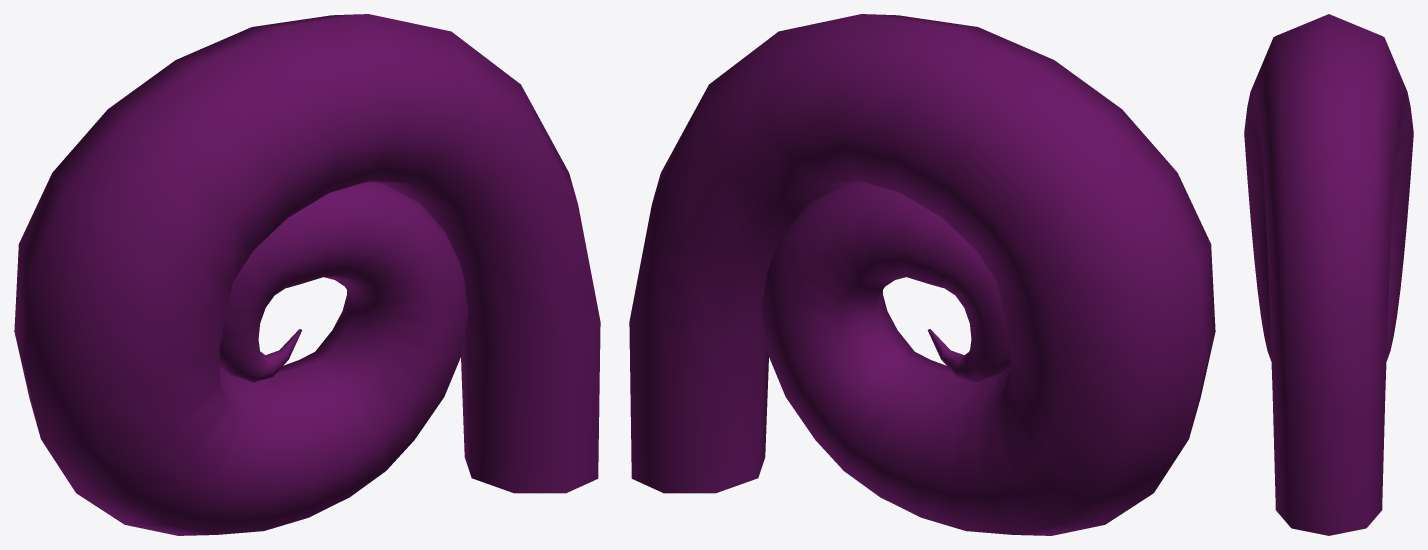
Rendered from Bush_3.glb.
The picture shows the model from 3 angles, left to right: view 1: azimuth 30°, elevation 25°; view 2: azimuth 150°, elevation 25°; view 3: azimuth 270°, elevation 25°; orthographic projection. The views are drawn at different scales.
Visible parts, largest first — view 1: Bush_3; view 2: Bush_3; view 3: Bush_3.
Part boxes in pixels (left/top/right/bottom): Bush_3: left=14, top=14, right=600, bottom=535; Bush_3: left=629, top=14, right=1215, bottom=535; Bush_3: left=1244, top=14, right=1413, bottom=535.
Size of the model in its own units: 1.86 by 1.58 by 0.6274.
Materials: 1 (1 with a texture image).
